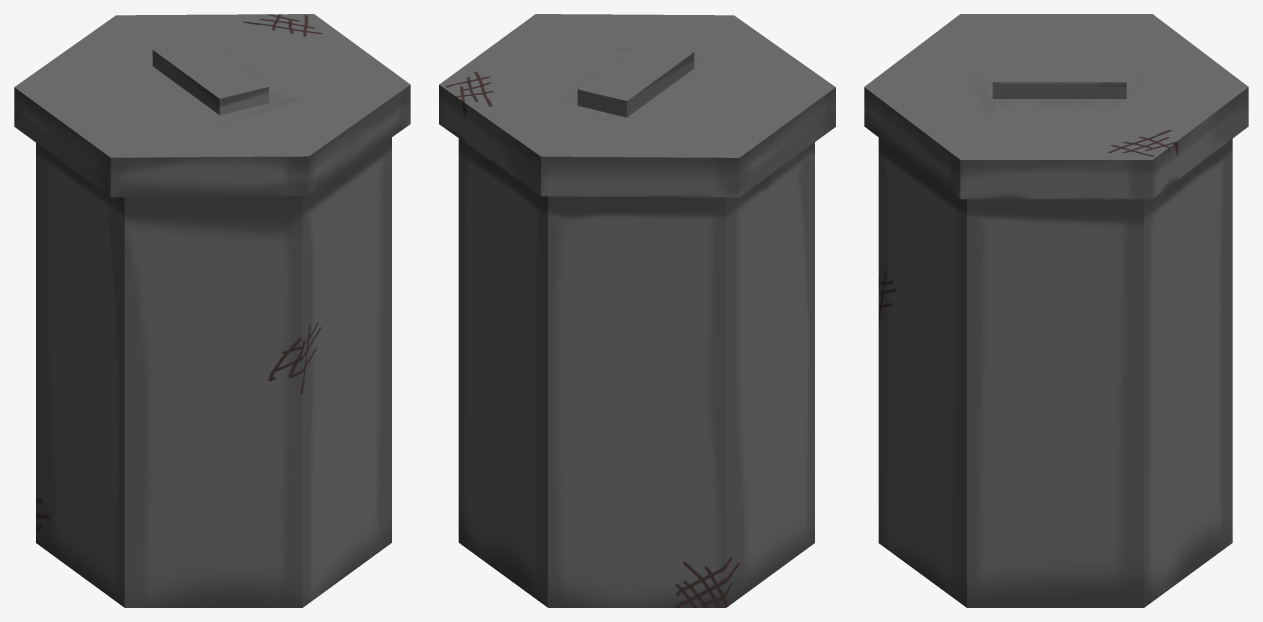
Rendered from lata de lixotextura.fbx.
3 renders of one model, left to right at view 1: azimuth 30°, elevation 25°; view 2: azimuth 150°, elevation 25°; view 3: azimuth 270°, elevation 25°, orthographic.
Visible parts, largest first — view 1: Cilindro; view 2: Cilindro; view 3: Cilindro.
Boxes of the visible parts, x1,y1,x2,y2 form: Cilindro: (14,14,410,607); Cilindro: (439,14,835,607); Cilindro: (864,14,1248,607).
Size of the model in its own units: 258 by 390 by 288.
